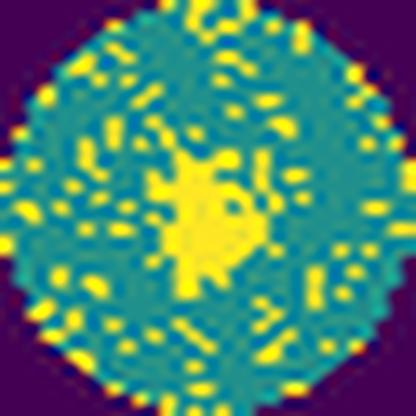Center: (145, 149, 275, 303)
